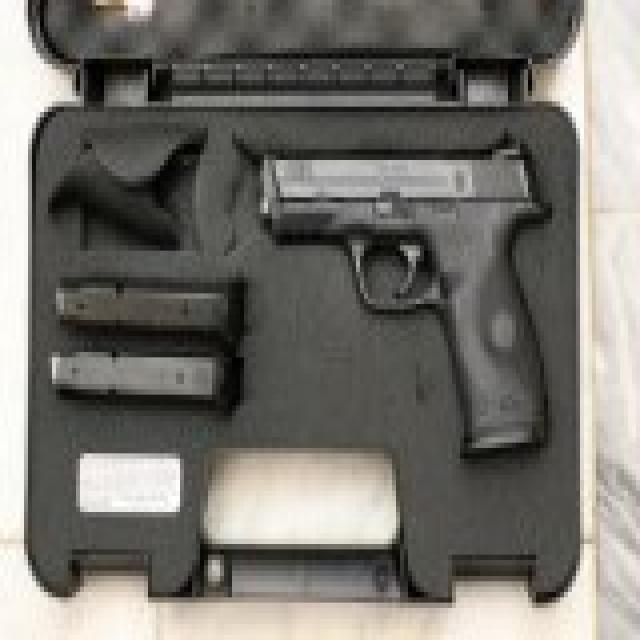Gun: (259, 130, 566, 476)
